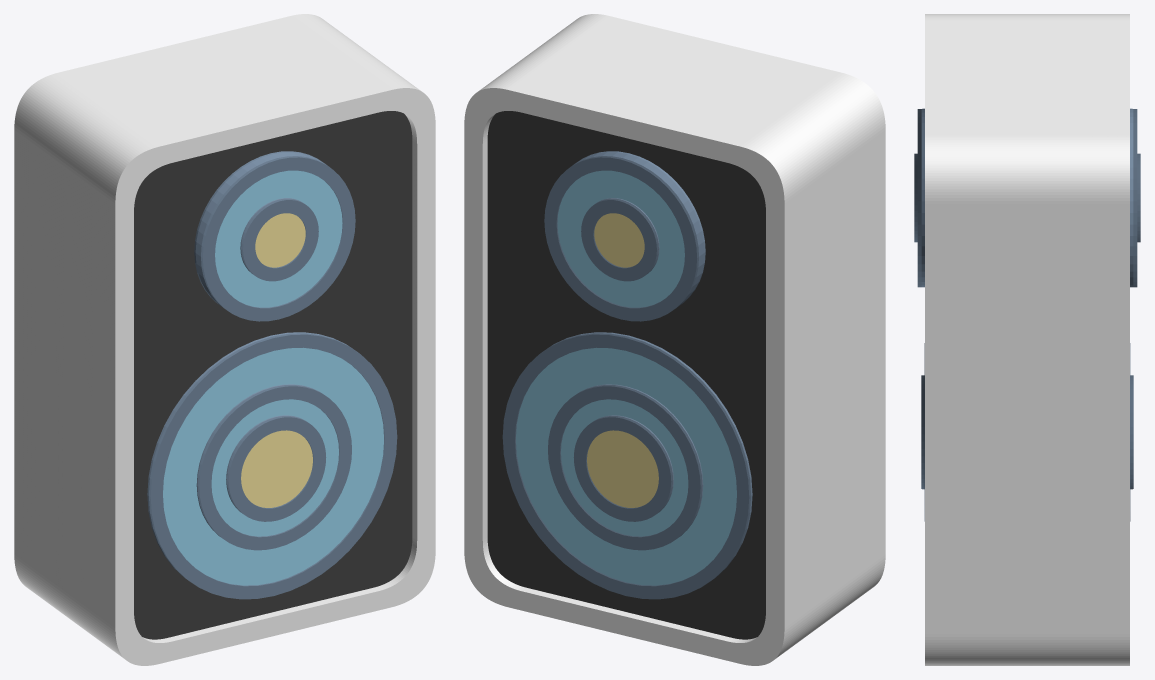
The picture shows the model from 3 angles, left to right: view 1: azimuth 30°, elevation 25°; view 2: azimuth 150°, elevation 25°; view 3: azimuth 270°, elevation 25°; orthographic projection.
Bounding box in the file's own units: 1.3 × 2 × 0.7855.
